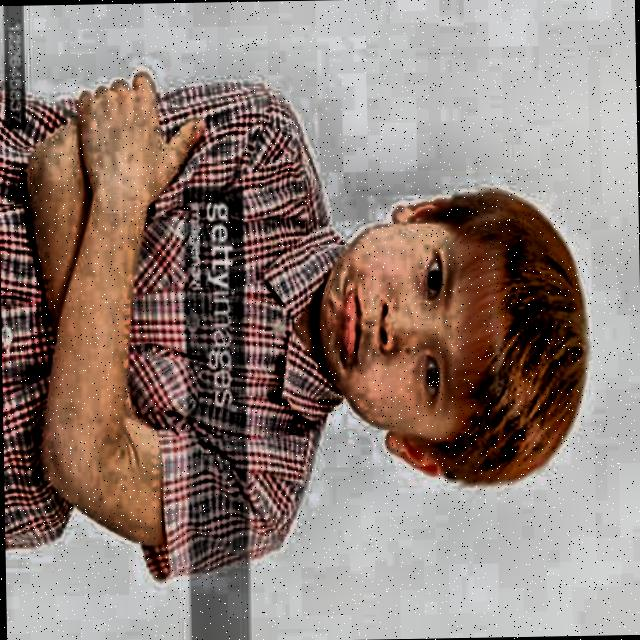angry: (291, 152, 604, 513)
